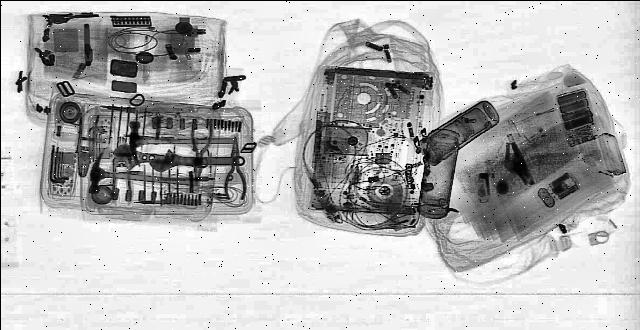Pliers: (182, 122, 216, 186), (72, 113, 98, 177), (222, 136, 248, 198)
Wrench: (111, 148, 245, 172), (144, 148, 210, 174)
